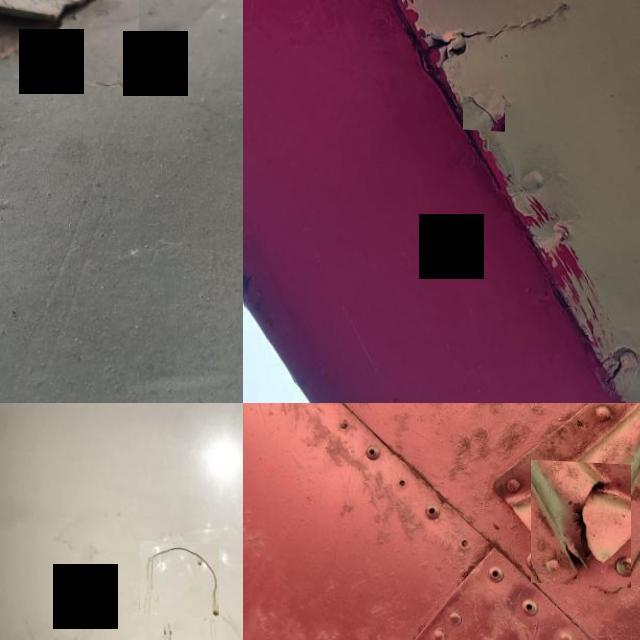Crack: (531, 456, 631, 583), (417, 0, 576, 74), (0, 0, 139, 83), (140, 540, 219, 615), (462, 84, 506, 128), (594, 342, 630, 387)
